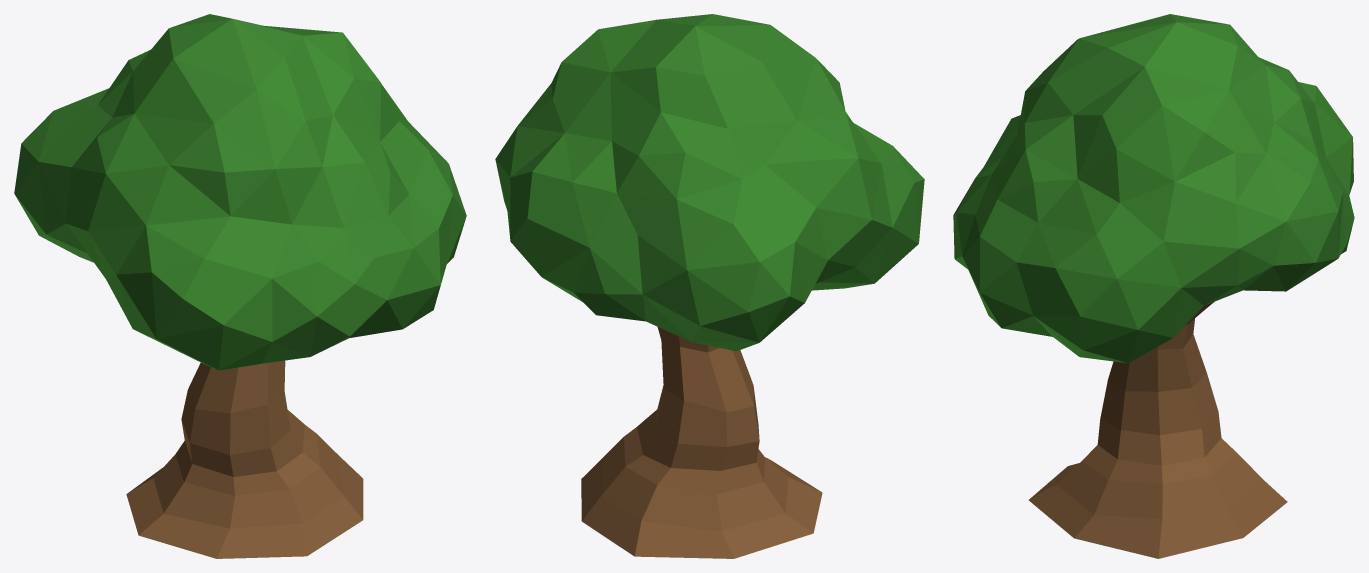
The model's file is tree3.glb.
The picture shows the model from 3 angles, left to right: view 1: azimuth 30°, elevation 25°; view 2: azimuth 150°, elevation 25°; view 3: azimuth 270°, elevation 25°; orthographic projection. The views are drawn at different scales.
Visible parts, largest first — view 1: LowPoly Tree 02; view 2: LowPoly Tree 02; view 3: LowPoly Tree 02.
Boxes of the visible parts, left/top/right/bottom form: LowPoly Tree 02: left=14, top=14, right=466, bottom=558; LowPoly Tree 02: left=495, top=14, right=924, bottom=558; LowPoly Tree 02: left=953, top=14, right=1354, bottom=558.
Size of the model in its own units: 1.83 by 2.42 by 1.84.
